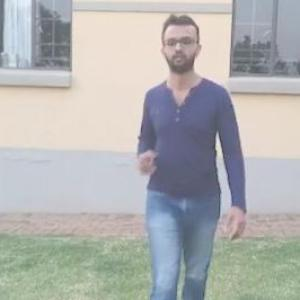follow: (138, 8, 252, 299)
